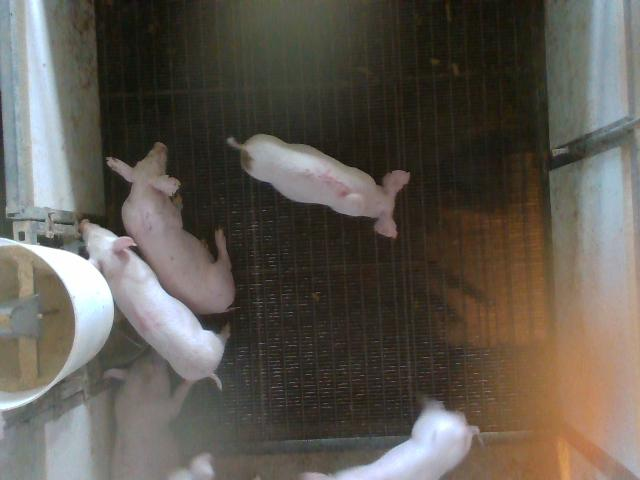pig-4: (80, 220, 229, 387)
pig-5: (228, 134, 409, 237)
